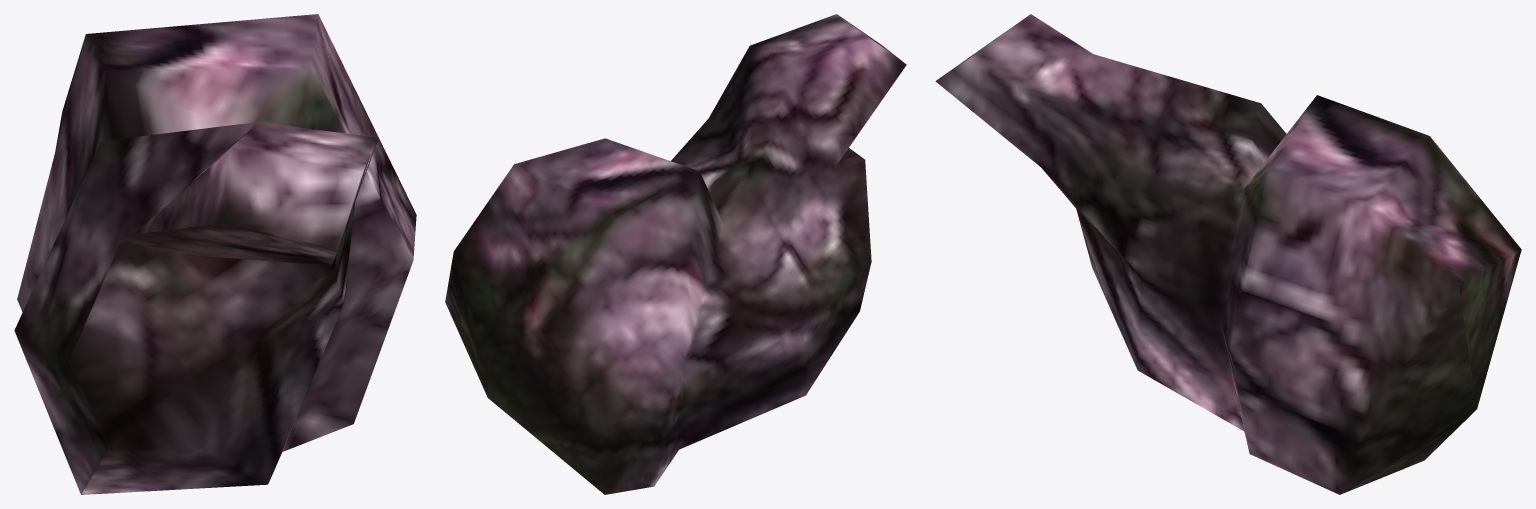
File: condra_7_arm_left_2.glb
3 renders of one model, left to right at view 1: azimuth 30°, elevation 25°; view 2: azimuth 150°, elevation 25°; view 3: azimuth 270°, elevation 25°, orthographic. The views are drawn at different scales.
Parts seen in each view (by area): view 1: model_condra_7_arm_left_2; view 2: model_condra_7_arm_left_2; view 3: model_condra_7_arm_left_2.
Boxes of the visible parts, <box> form: model_condra_7_arm_left_2: <box>14,14,416,494</box>; model_condra_7_arm_left_2: <box>445,14,906,494</box>; model_condra_7_arm_left_2: <box>935,14,1521,494</box>.
Bounding box in the file's own units: 0.6726 × 0.6803 × 0.9132.
1 material, 1 textured.
